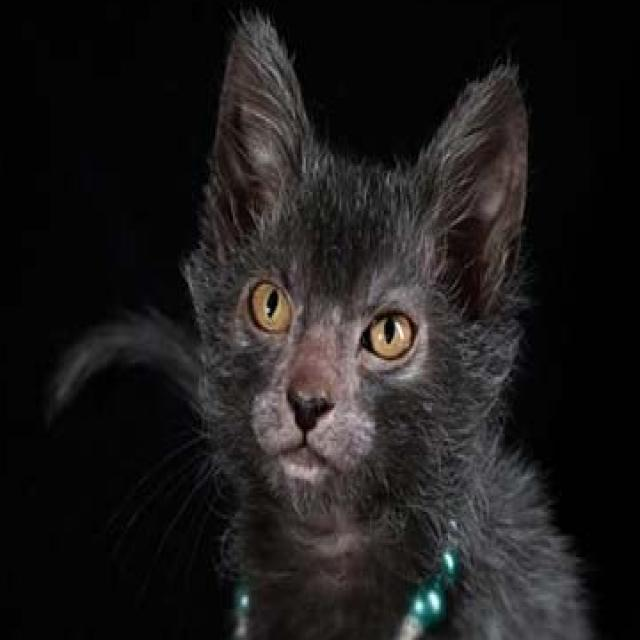Lykoi: (41, 9, 594, 640)
